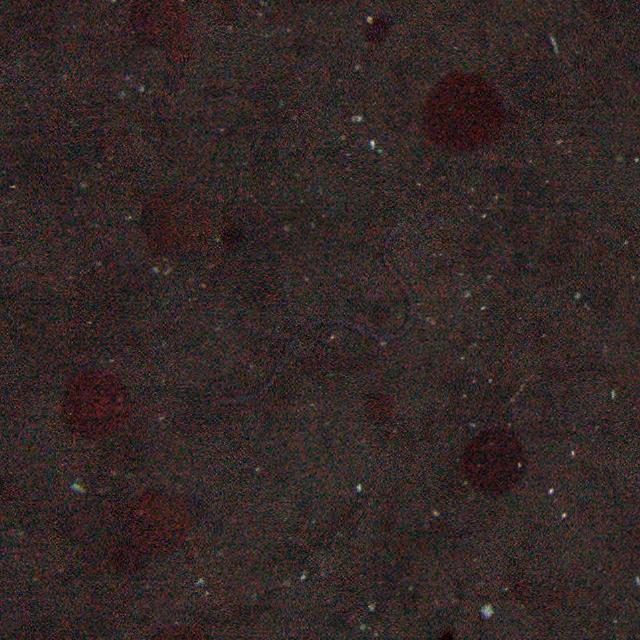eel: (216, 224, 422, 406)
